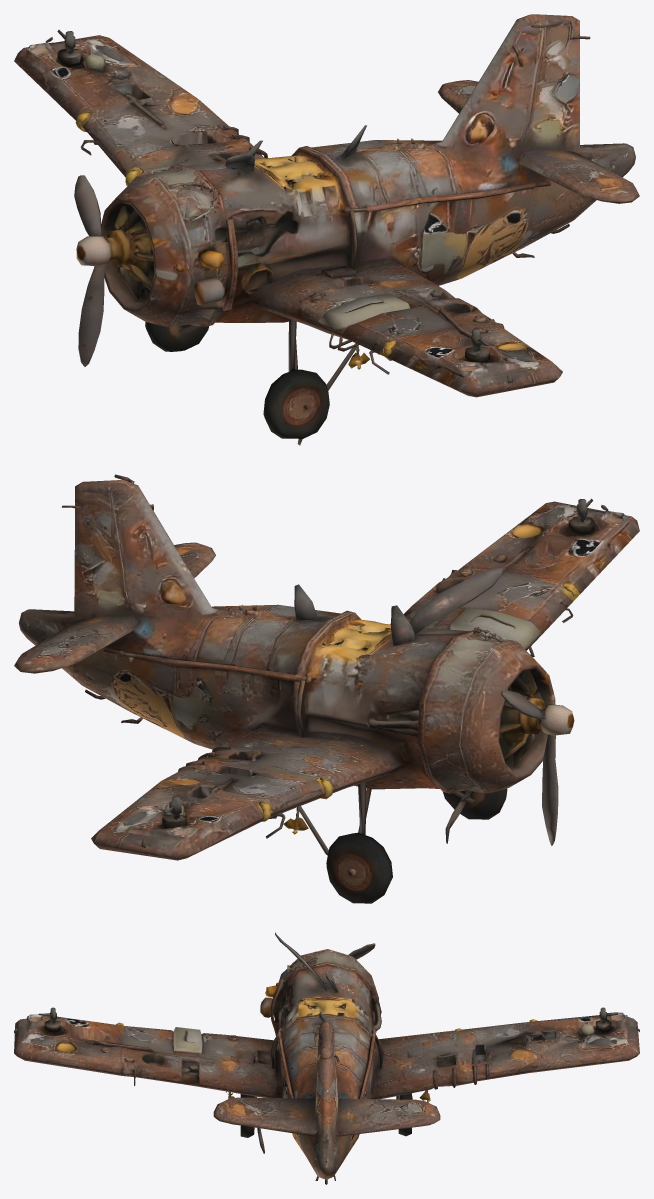
Rendered from prop_scrap_plane.glb.
3 views of the same model, one above another, from view 1: azimuth 30°, elevation 25°; view 2: azimuth 150°, elevation 25°; view 3: azimuth 270°, elevation 25° (orthographic). The views are drawn at different scales.
Parts seen in each view (by area): view 1: prop_scrap_plane; view 2: prop_scrap_plane; view 3: prop_scrap_plane.
Part boxes in pixels (x1=…): prop_scrap_plane: x1=14, y1=14, x2=639, y2=445; prop_scrap_plane: x1=14, y1=474, x2=639, y2=903; prop_scrap_plane: x1=14, y1=932, x2=639, y2=1184.
Size of the model in its own units: 3.86 by 2.2 by 5.59.
Materials: 1 (1 with a texture image).
